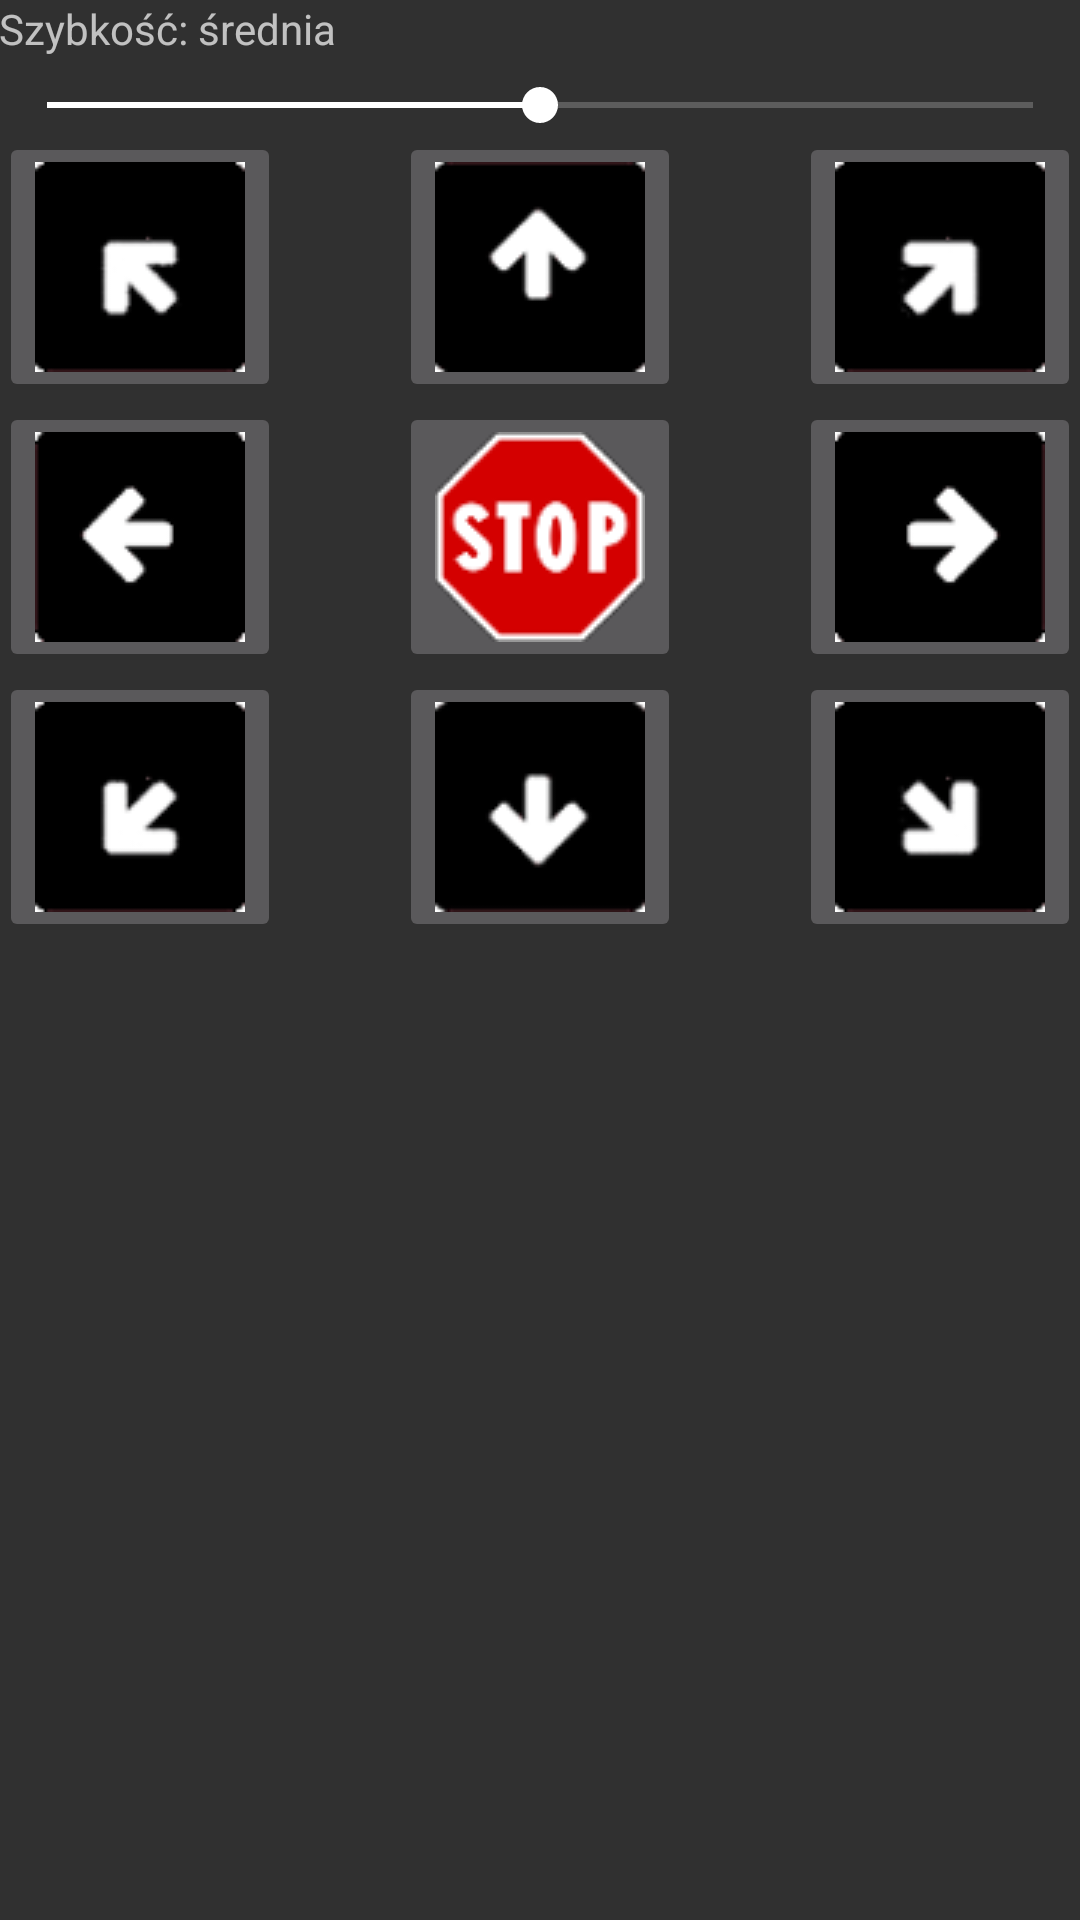

Point at icon controls on the screen. Image size 1080w x 1920h, points as point (x, y).
down: point (540, 807)
downleft: point (140, 807)
downright: point (940, 807)
left: point (140, 537)
right: point (940, 537)
upleft: point (140, 267)
upright: point (940, 267)
